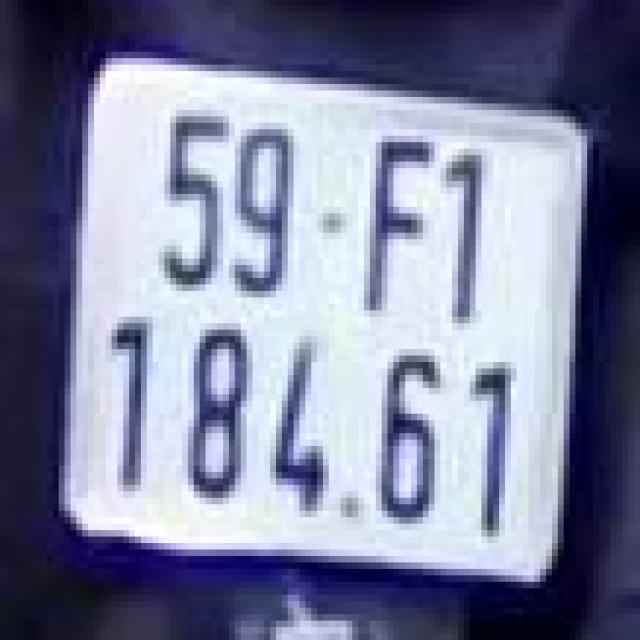1: (97, 301, 161, 514), (440, 139, 505, 339), (461, 359, 525, 546)
4: (258, 320, 340, 533)
5: (156, 87, 232, 301)
6: (364, 330, 446, 556)
8: (176, 317, 258, 517)
9: (235, 107, 311, 307)
F: (356, 113, 438, 320)
